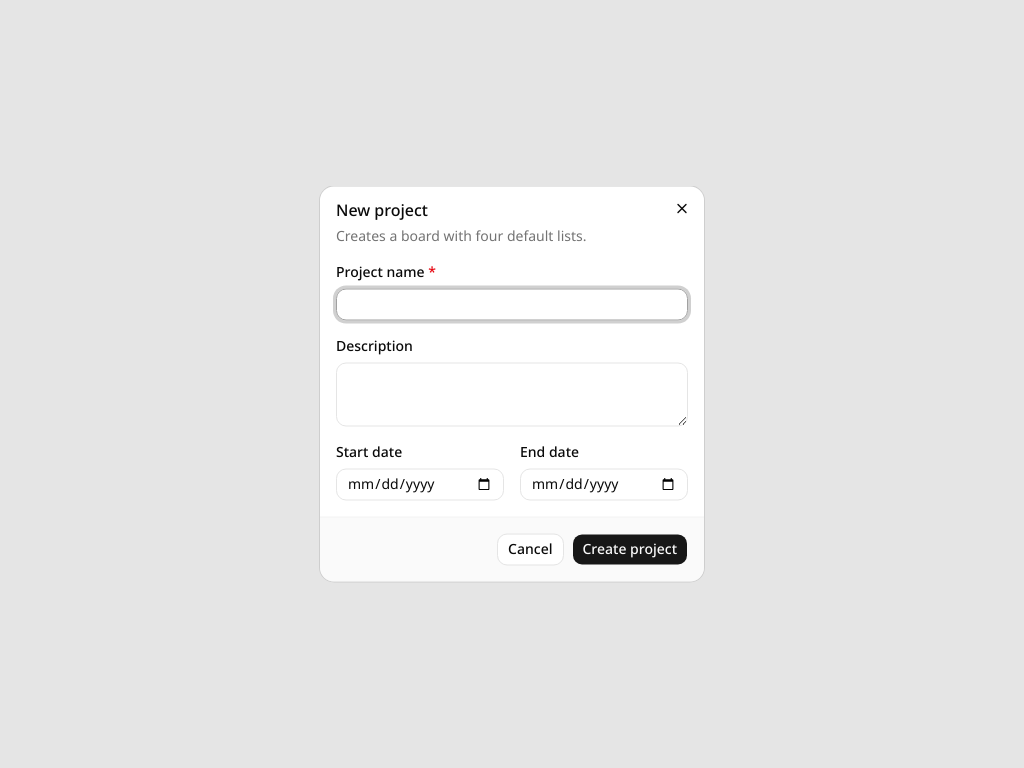
Test: CreateProjectDialog › shows required error and focuses name on empty submit
The image size is (1024, 768).
Step 1. Click the button "Create project" → (630, 550), box [572, 534, 688, 566]
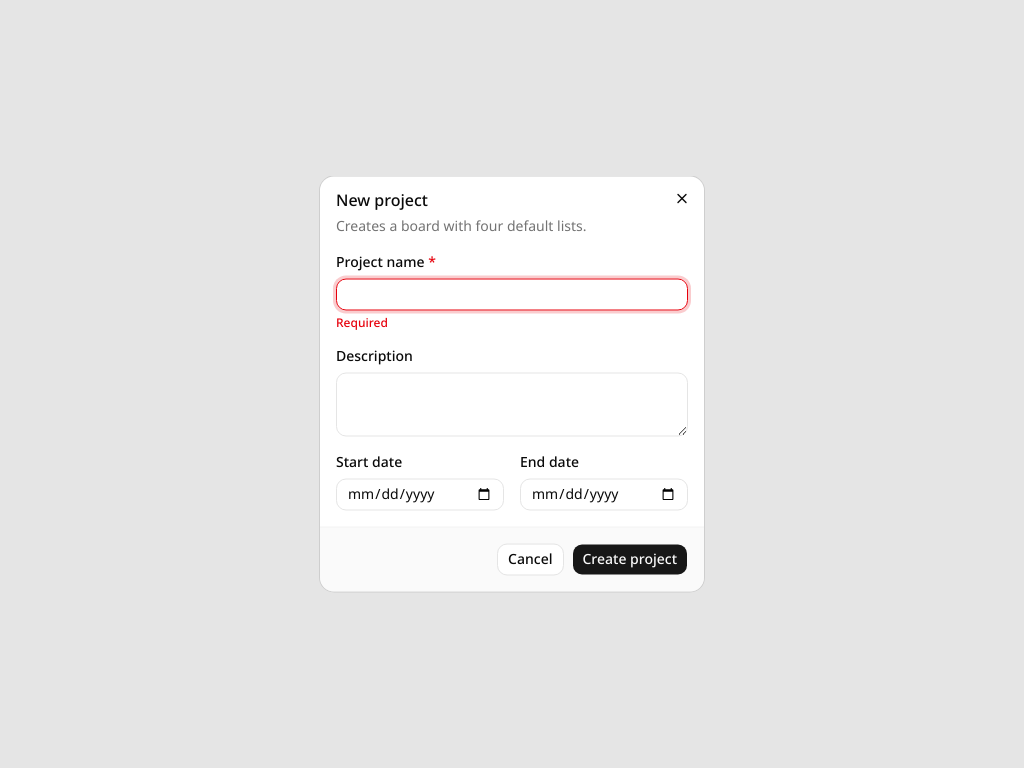
Expected: the message reads "Required", [336, 314, 388, 332]
